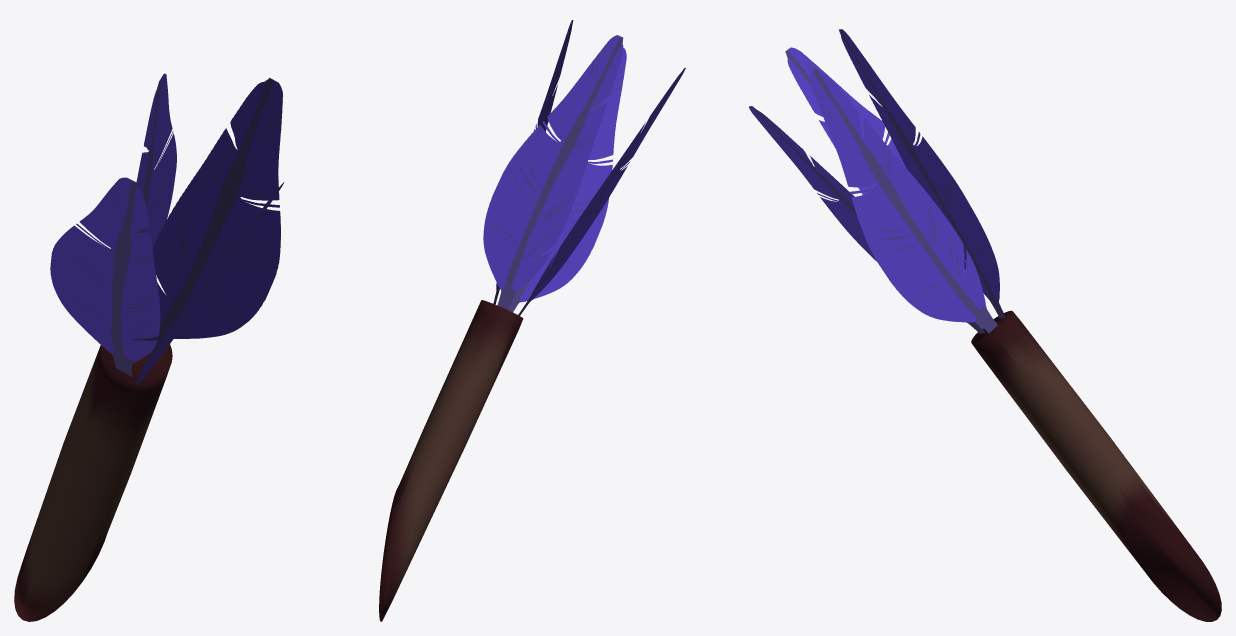
Rendered from Dart.fbx.
The picture shows the model from 3 angles, left to right: view 1: azimuth 30°, elevation 25°; view 2: azimuth 150°, elevation 25°; view 3: azimuth 270°, elevation 25°; orthographic projection. The views are drawn at different scales.
Parts seen in each view (by area): view 1: Dart; view 2: Dart; view 3: Dart.
Boxes of the visible parts, x1,y1,x2,y2 form: Dart: [14, 73, 284, 621]; Dart: [379, 20, 685, 621]; Dart: [749, 29, 1221, 621].
Bounding box in the file's own units: 2000 × 5871 × 4612.
